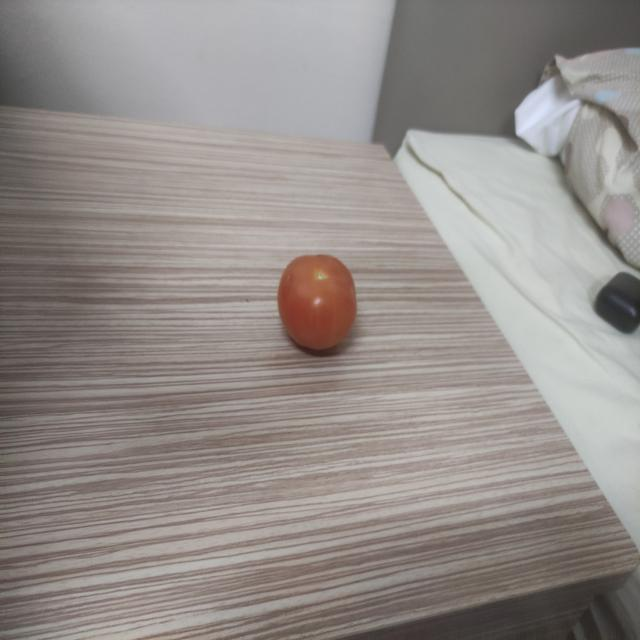sari: (270, 234, 363, 363)
